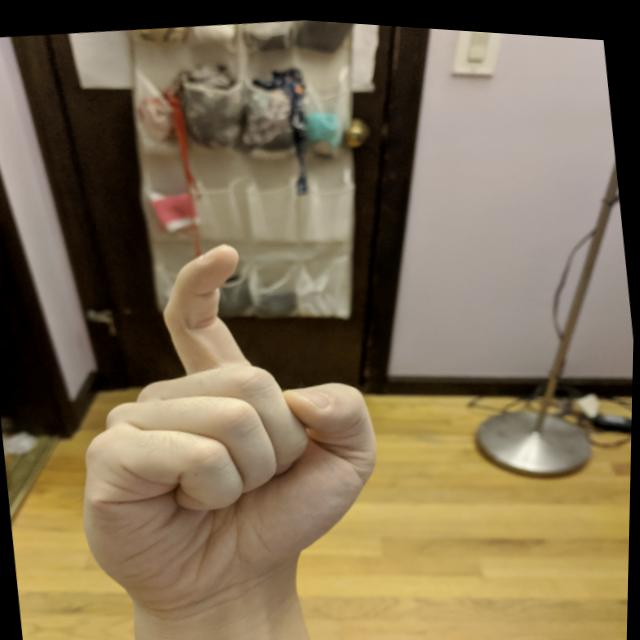X: (43, 210, 409, 629)
